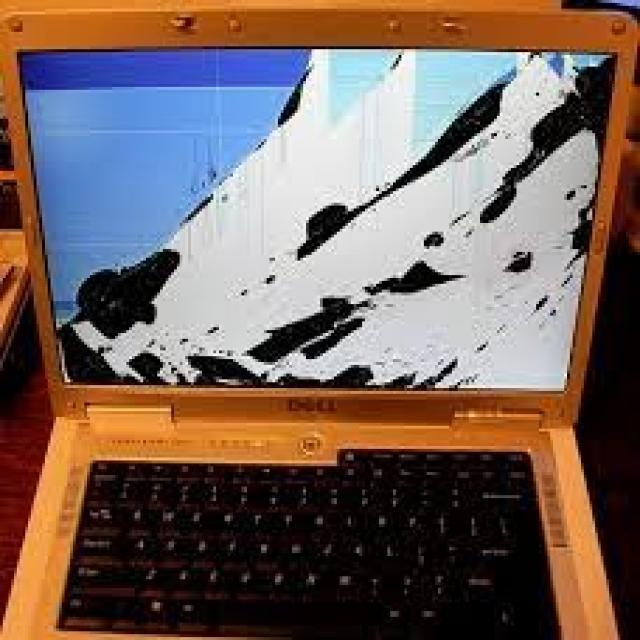Screen cracks: (17, 52, 612, 397)
